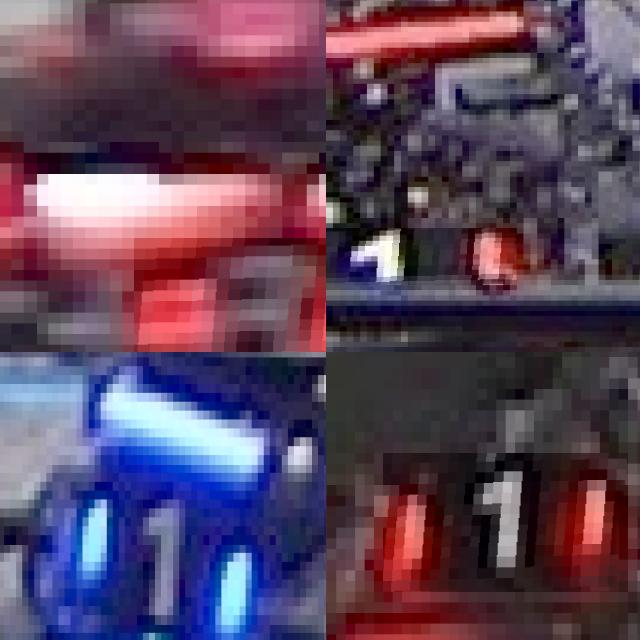B1: (58, 464, 251, 640)
R1: (383, 453, 628, 592), (326, 228, 516, 290)
R3: (134, 238, 326, 352)
